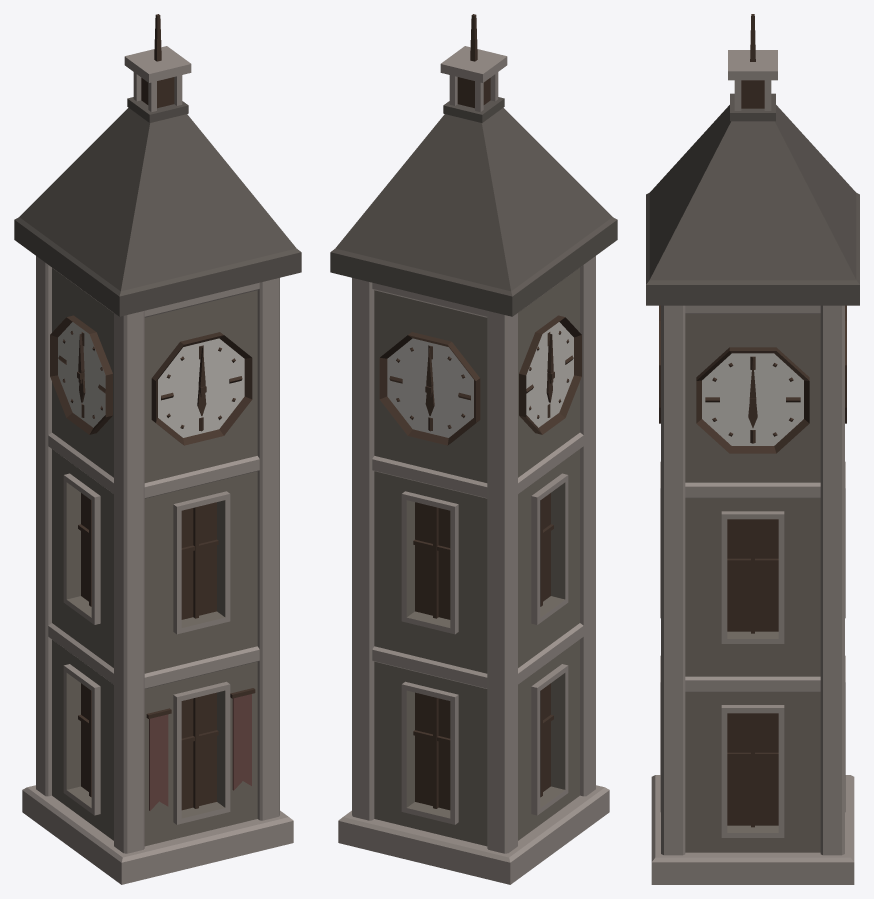
The model's file is tower.glb.
The picture shows the model from 3 angles, left to right: view 1: azimuth 30°, elevation 25°; view 2: azimuth 150°, elevation 25°; view 3: azimuth 270°, elevation 25°; orthographic projection.
Parts seen in each view (by area): view 1: clock-tower-body; view 2: clock-tower-body; view 3: clock-tower-body.
Boxes of the visible parts, box(x1,y1,x2,y2) form: clock-tower-body: box(14, 14, 301, 884); clock-tower-body: box(330, 14, 617, 884); clock-tower-body: box(646, 14, 859, 884).
Size of the model in its own units: 3 by 12.8 by 3.
